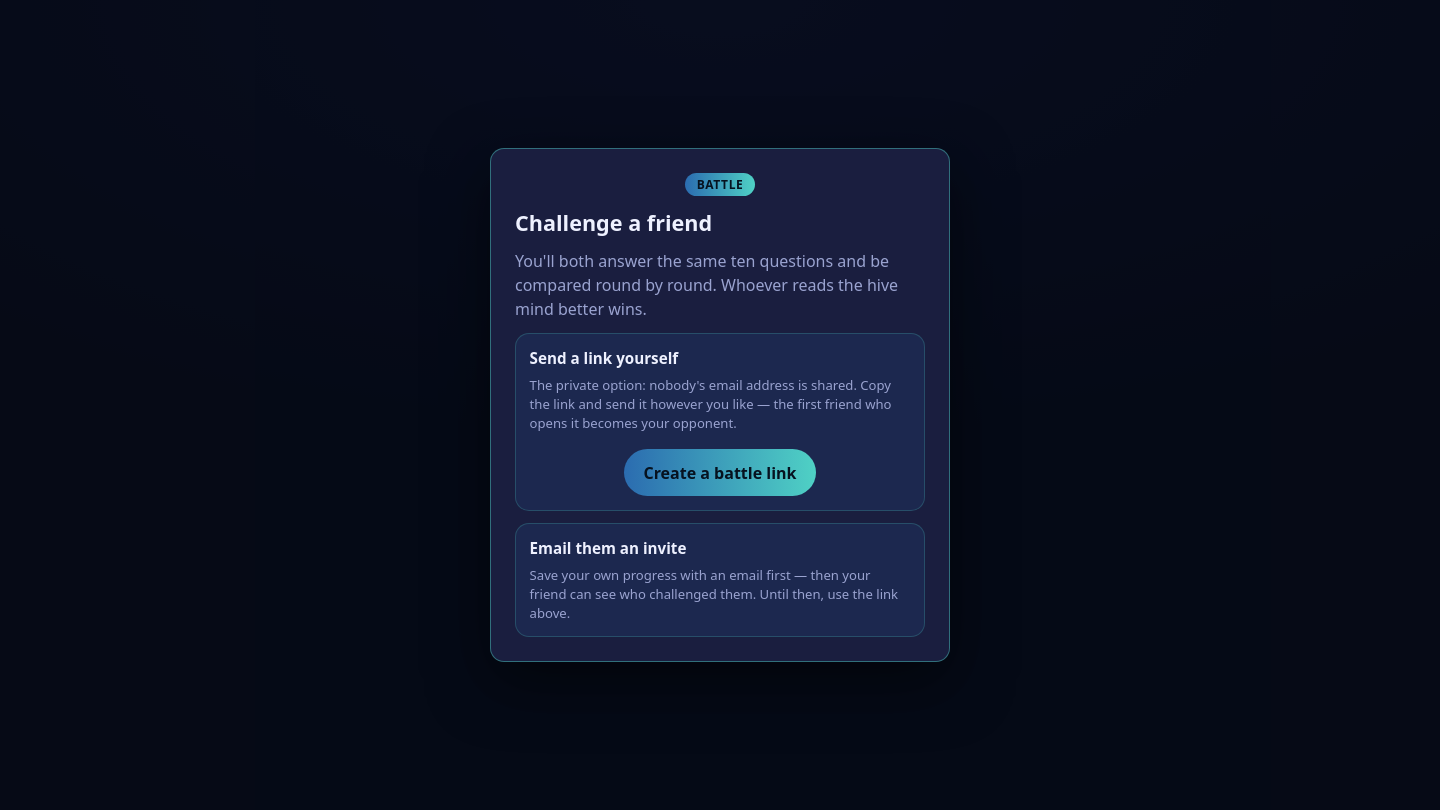
Test: PvpInviteModal › creates a link and shows it for copying
This screenshot has width=1440, height=810.
Click the button "Create a battle link".
click(720, 473)  # box [624,449,816,496]
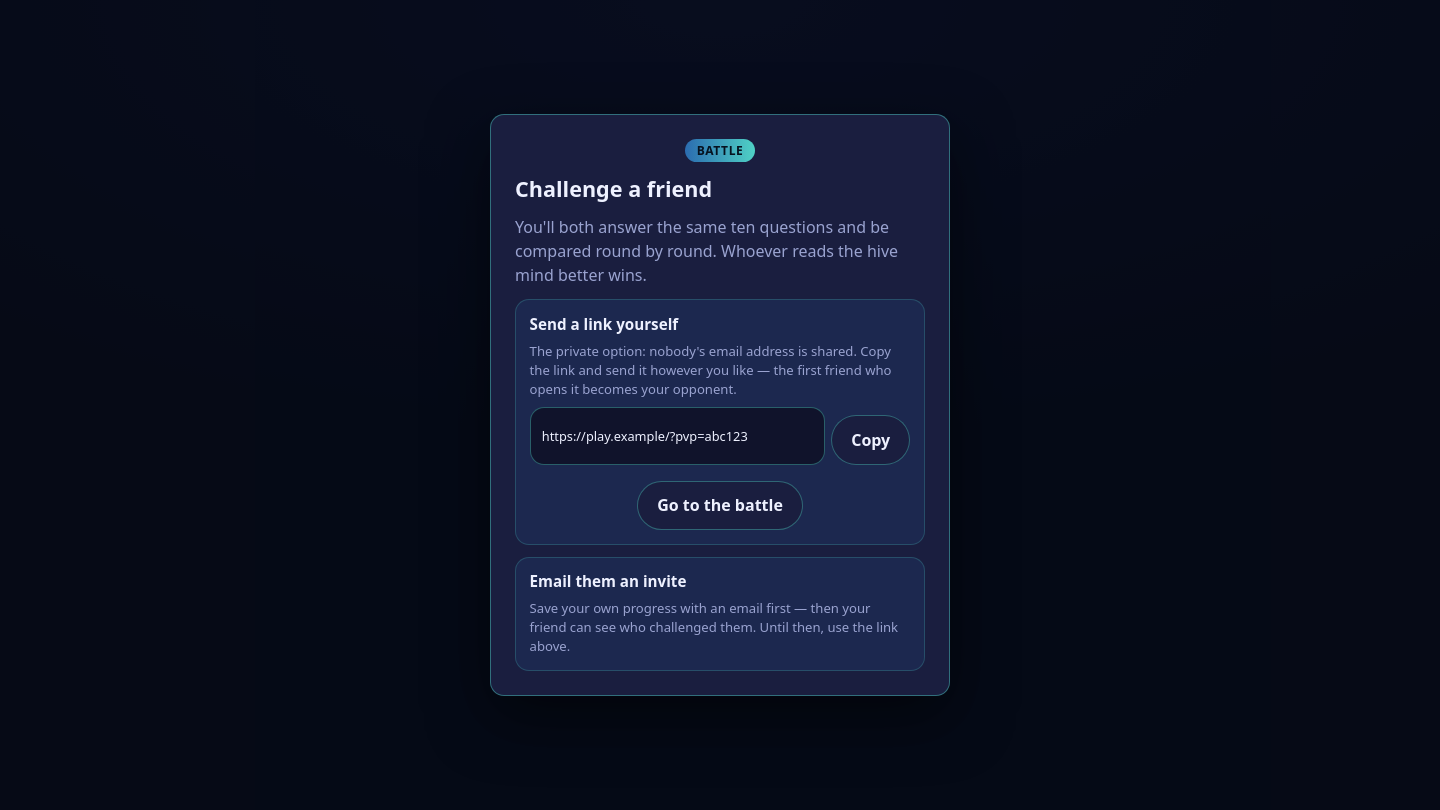
Now the field named "battle link" holds "https://play.example/?pvp=abc123", box [530,407,825,465]
